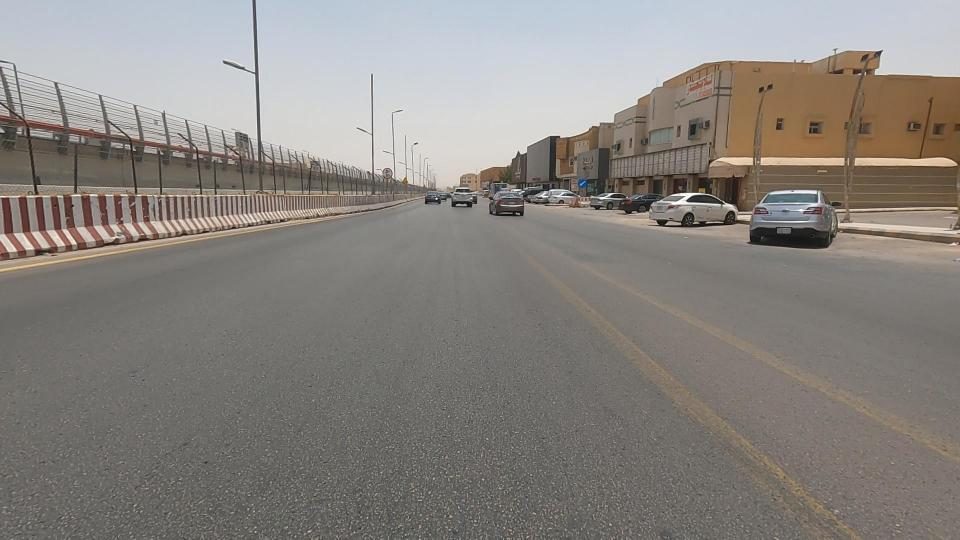BAD_BILLBOARD: (593, 114, 767, 202), (574, 126, 665, 211)
CONSTRUCTION_ROAD: (0, 47, 232, 316), (113, 87, 368, 276), (280, 140, 436, 240)
